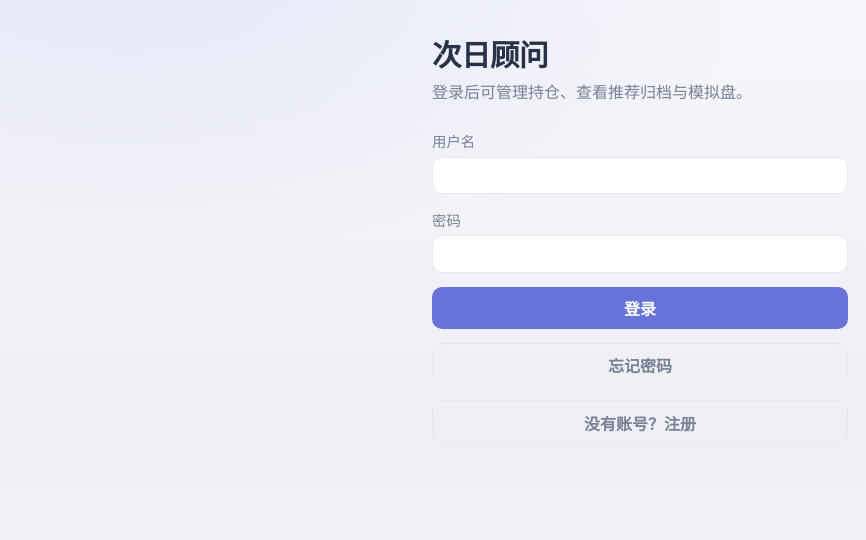
Scenario: 登录页提供忘记密码入口
The width and height of the screenshot is (866, 540).
Click the button "忘记密码".
click(640, 365)  # box [432,343,848,387]
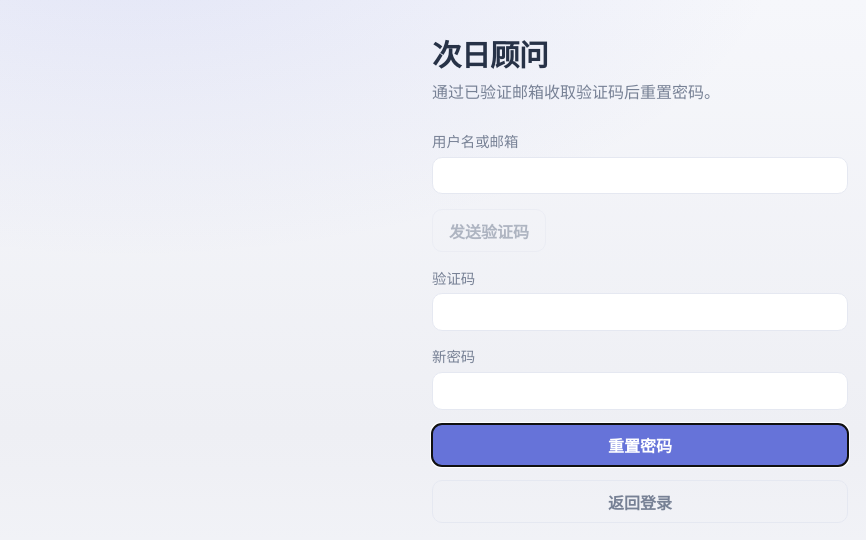
Check: the button "发送验证码" is shown, box [432,209,546,252]
Check: the button "重置密码" is shown, box [432,424,848,466]
